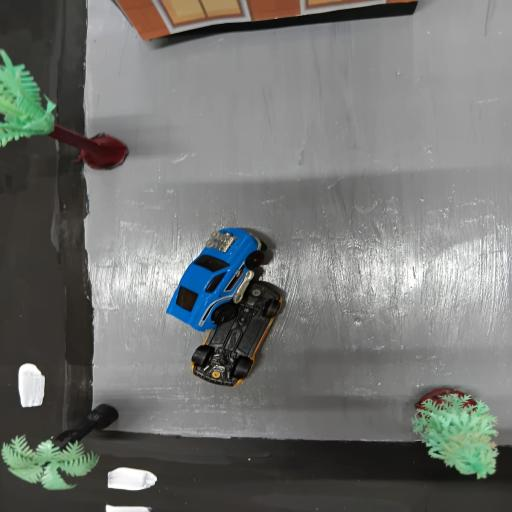car crash: (157, 222, 295, 393)
